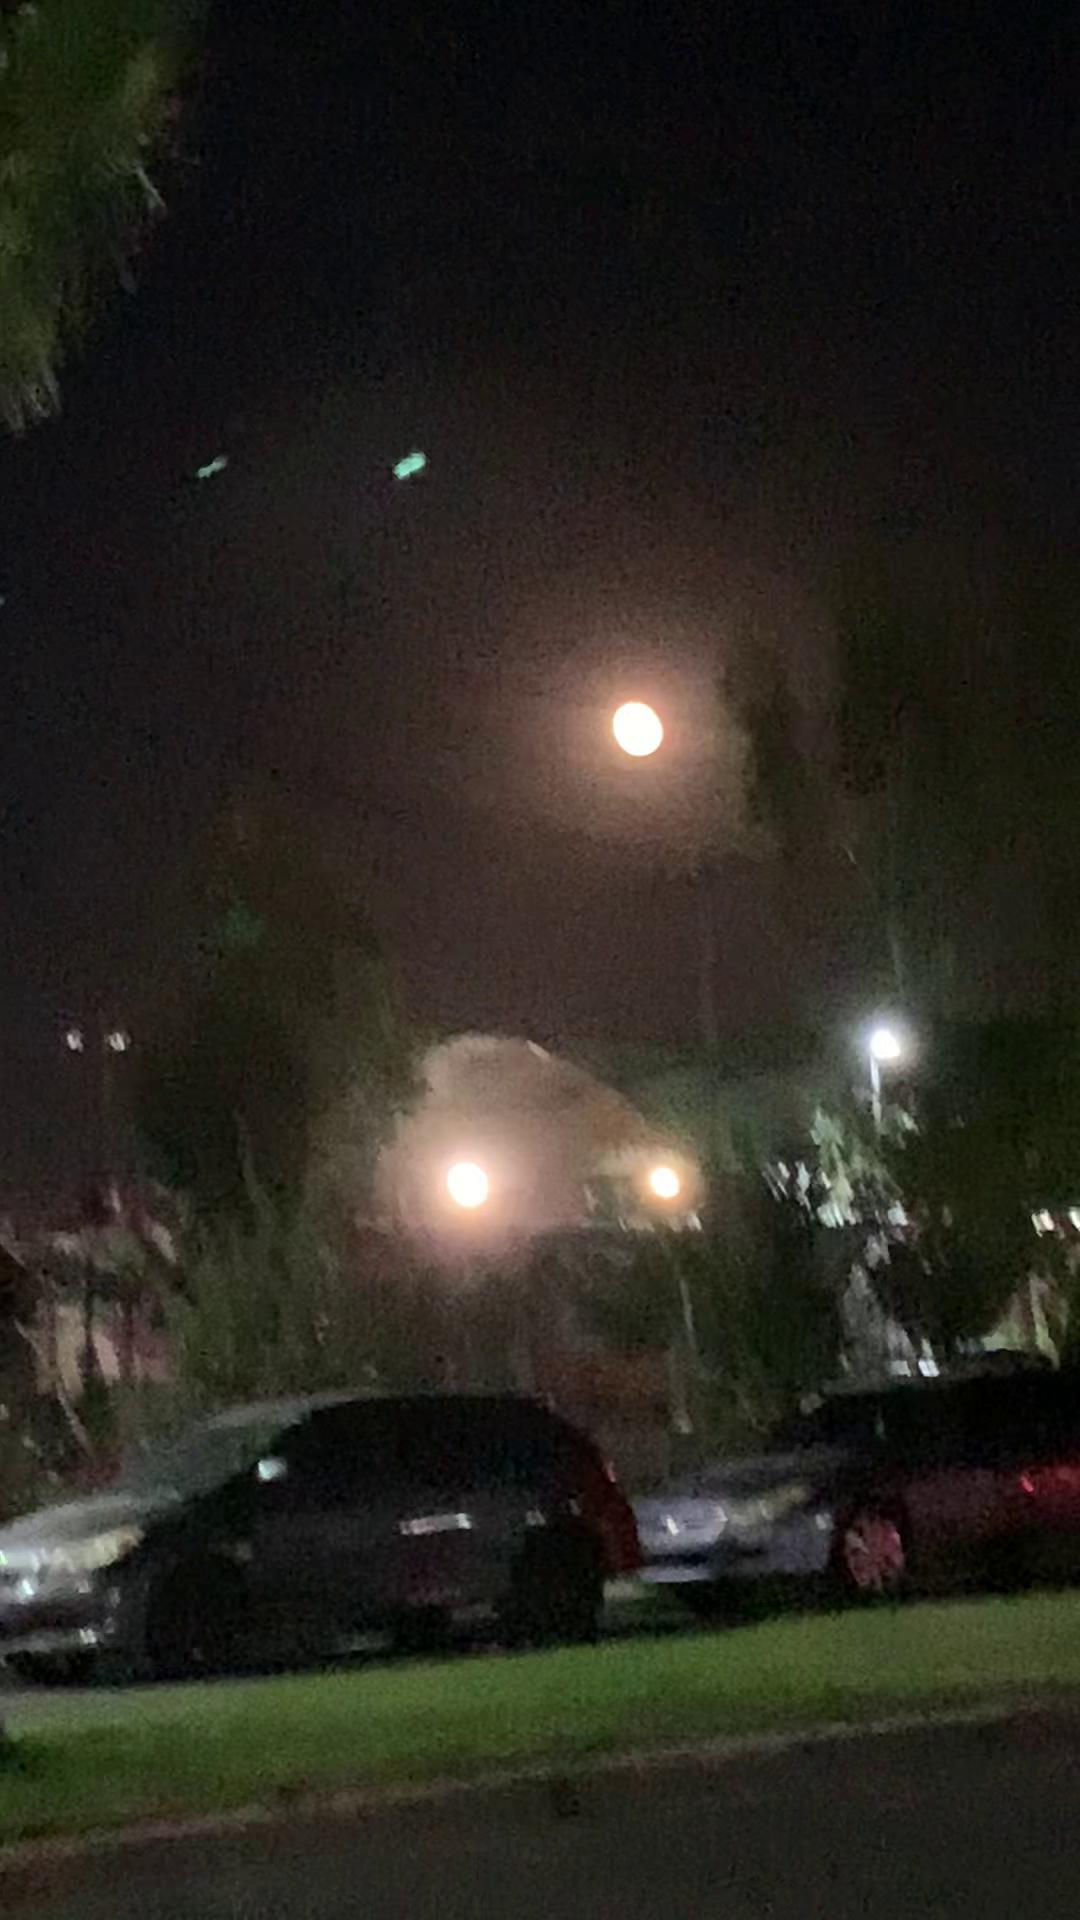moon: (604, 704, 694, 780)
